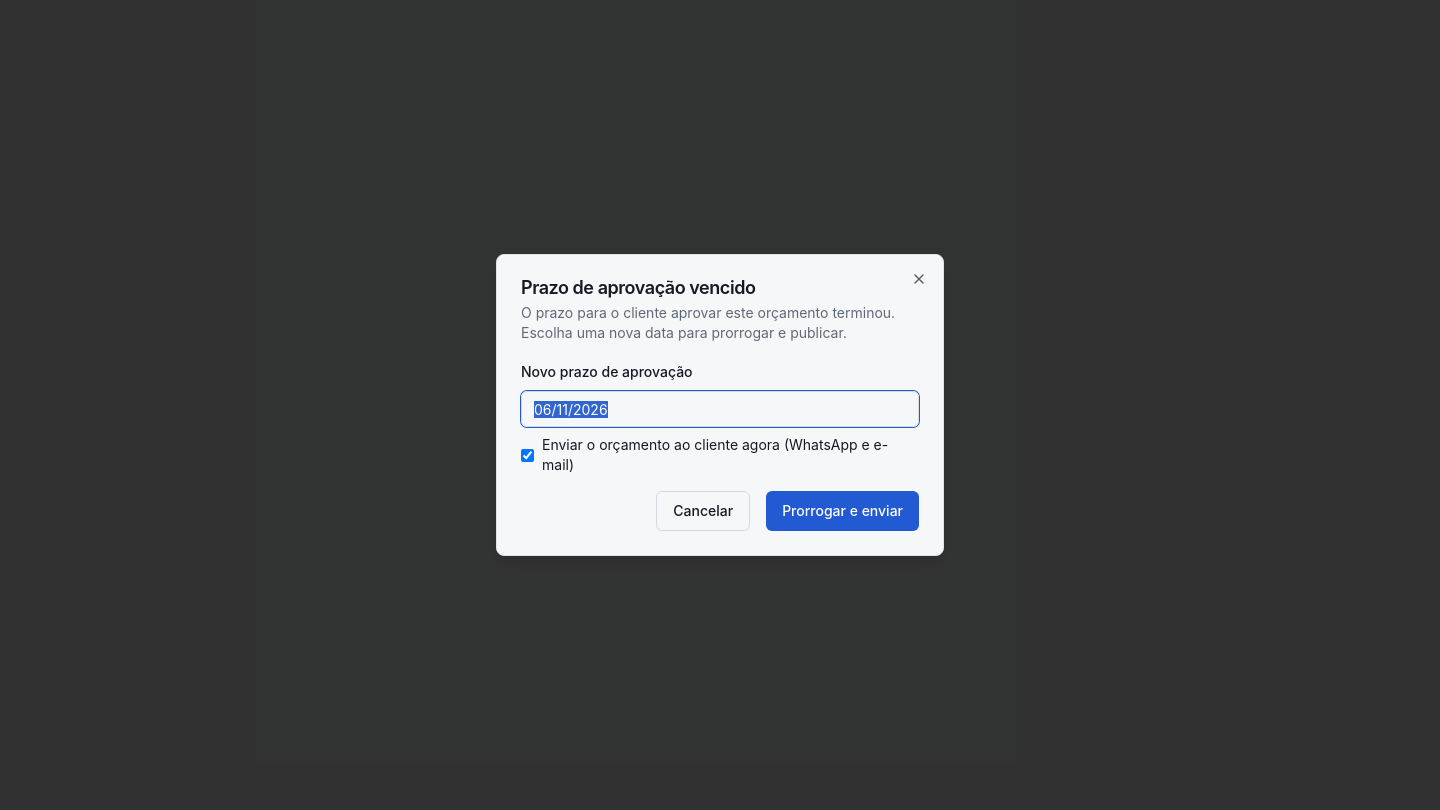
ProrrogarPrazoDialog › não prorroga se o operador recusar anular a resposta
Replace the text in the field labelled "Novo prazo de aprovação" with "2099-03-15" at (720, 409), box [521,391,919,427]
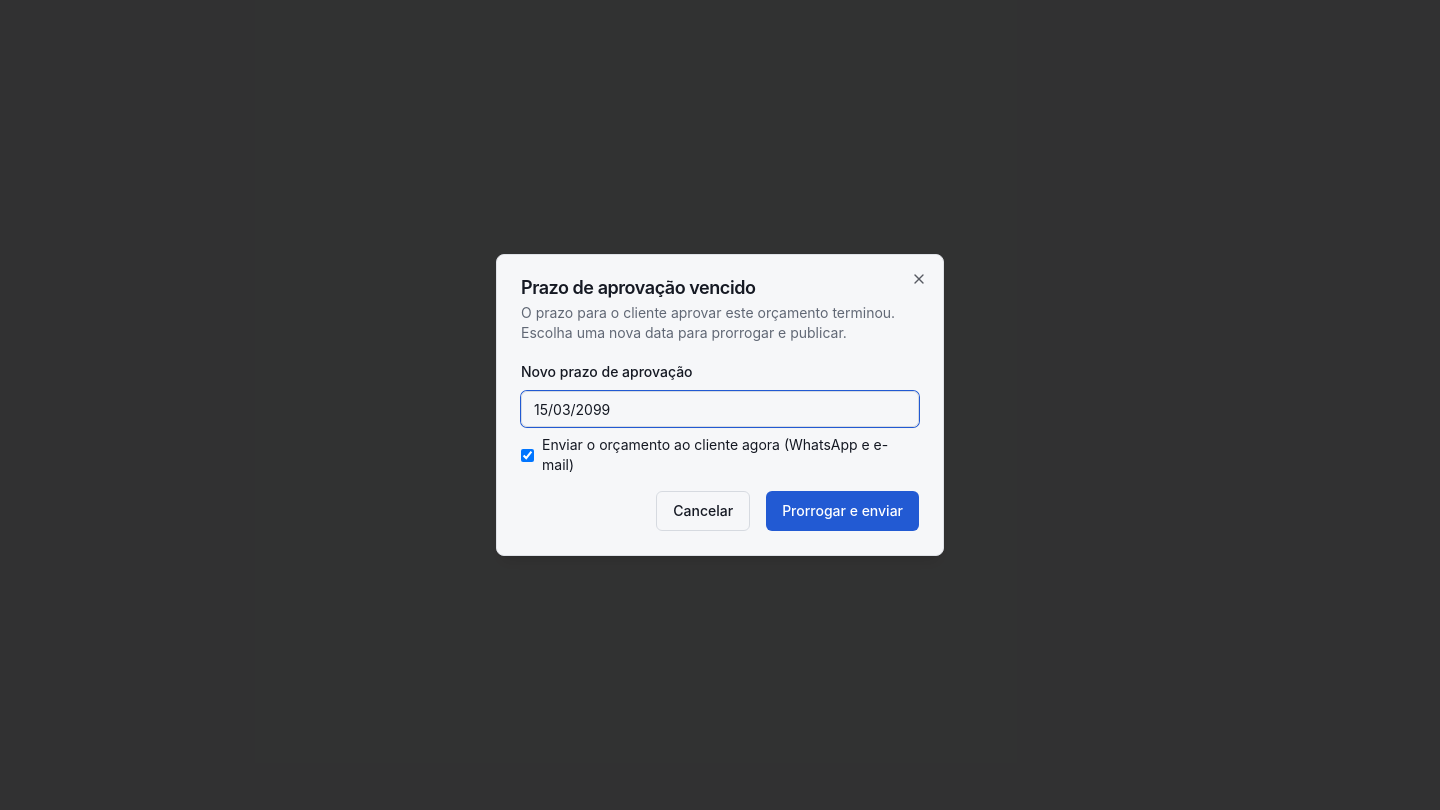
Click the checkbox labelled "Enviar o orçamento ao cliente agora (WhatsApp e e-mail)" at (528, 455), box [521,448,534,462]
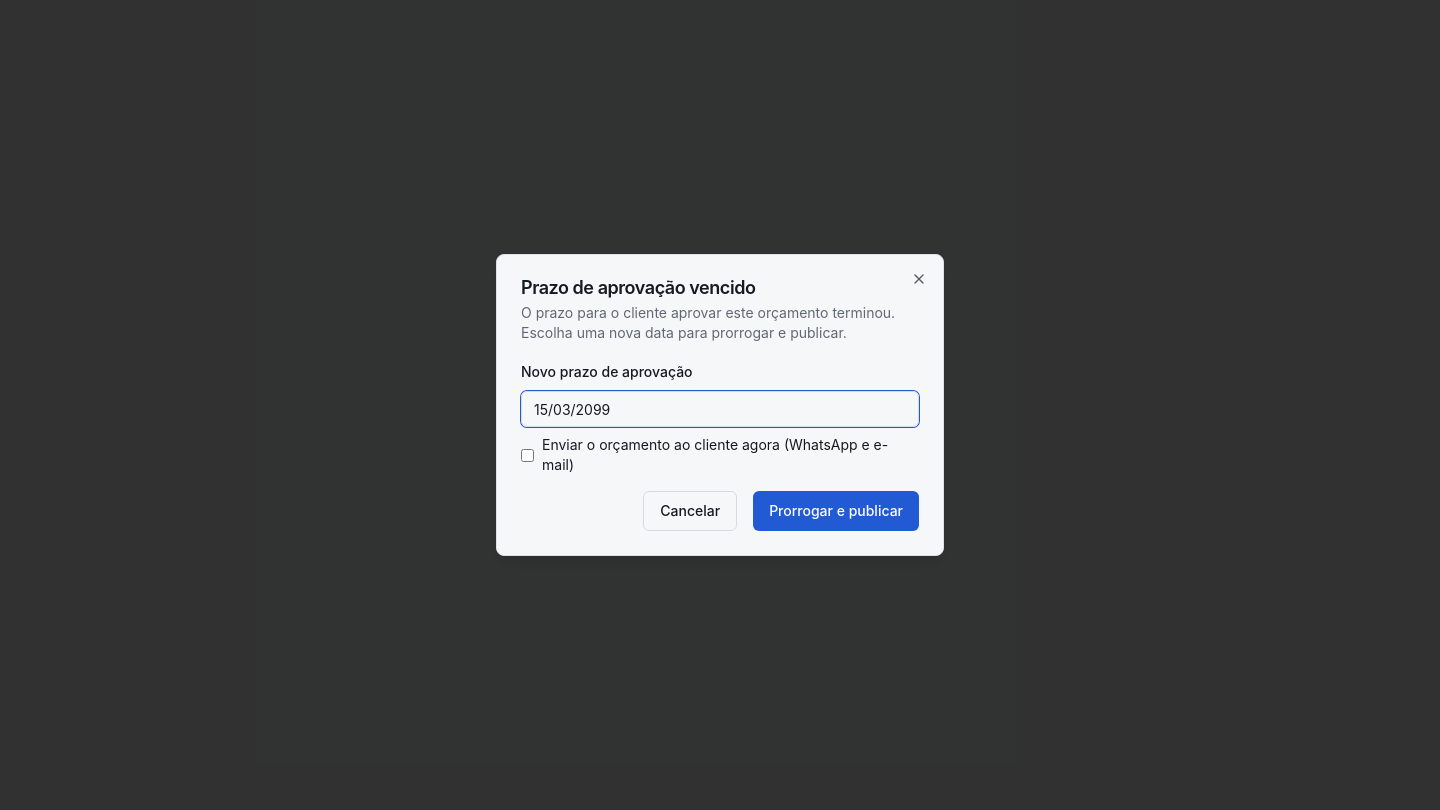
Click the button "Prorrogar e publicar" at (836, 511), box [753,491,919,531]
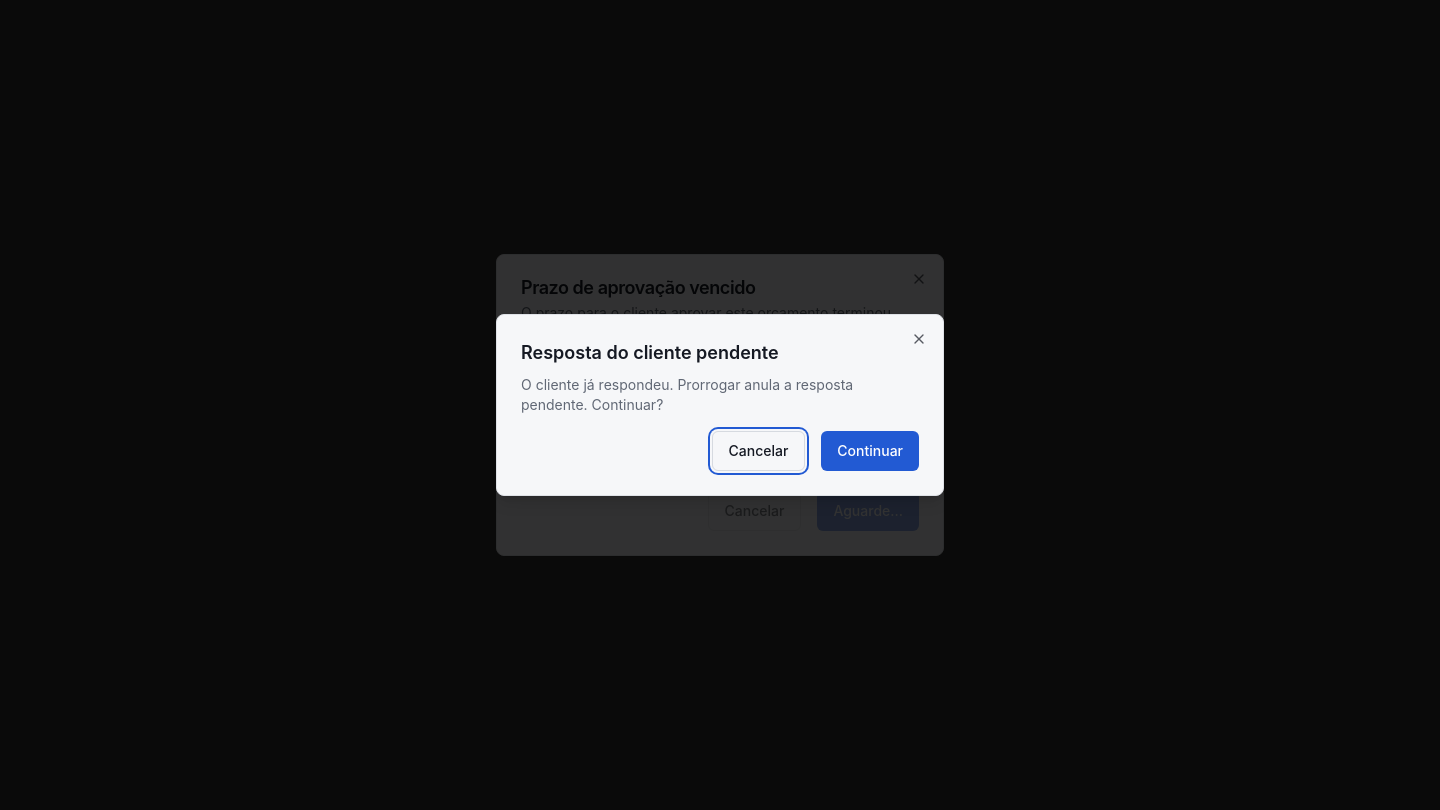
Expected: the text "O cliente já respondeu" is shown, [521,376,853,413]
Click the button "Cancelar" at (758, 451), box [712,431,805,471]
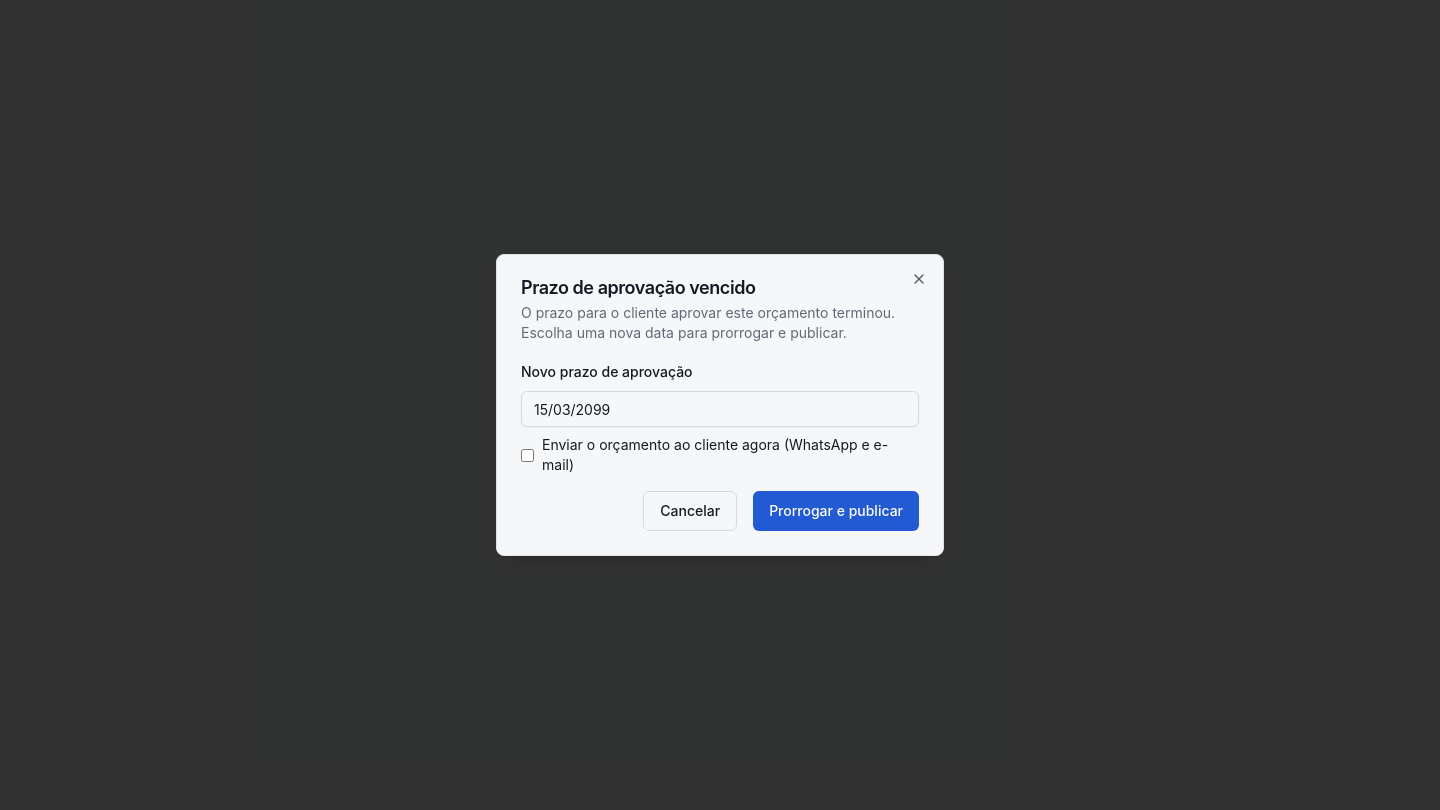
Expected: the text "O cliente já respondeu" is gone
